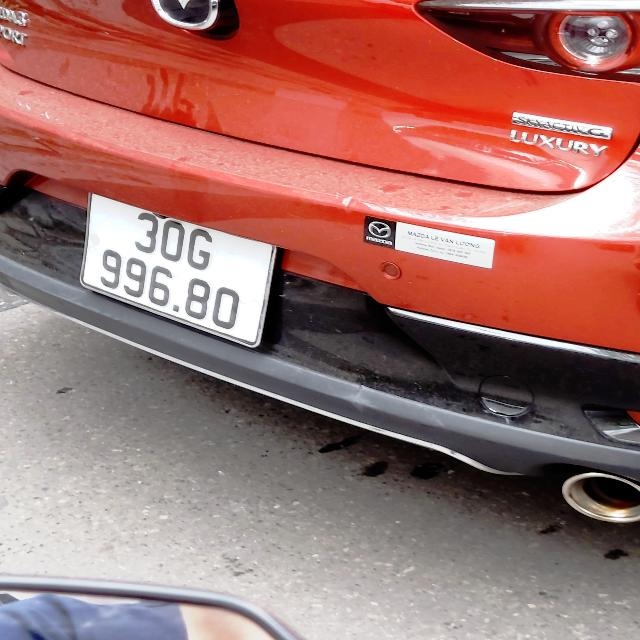license_plate: (74, 186, 284, 352)
